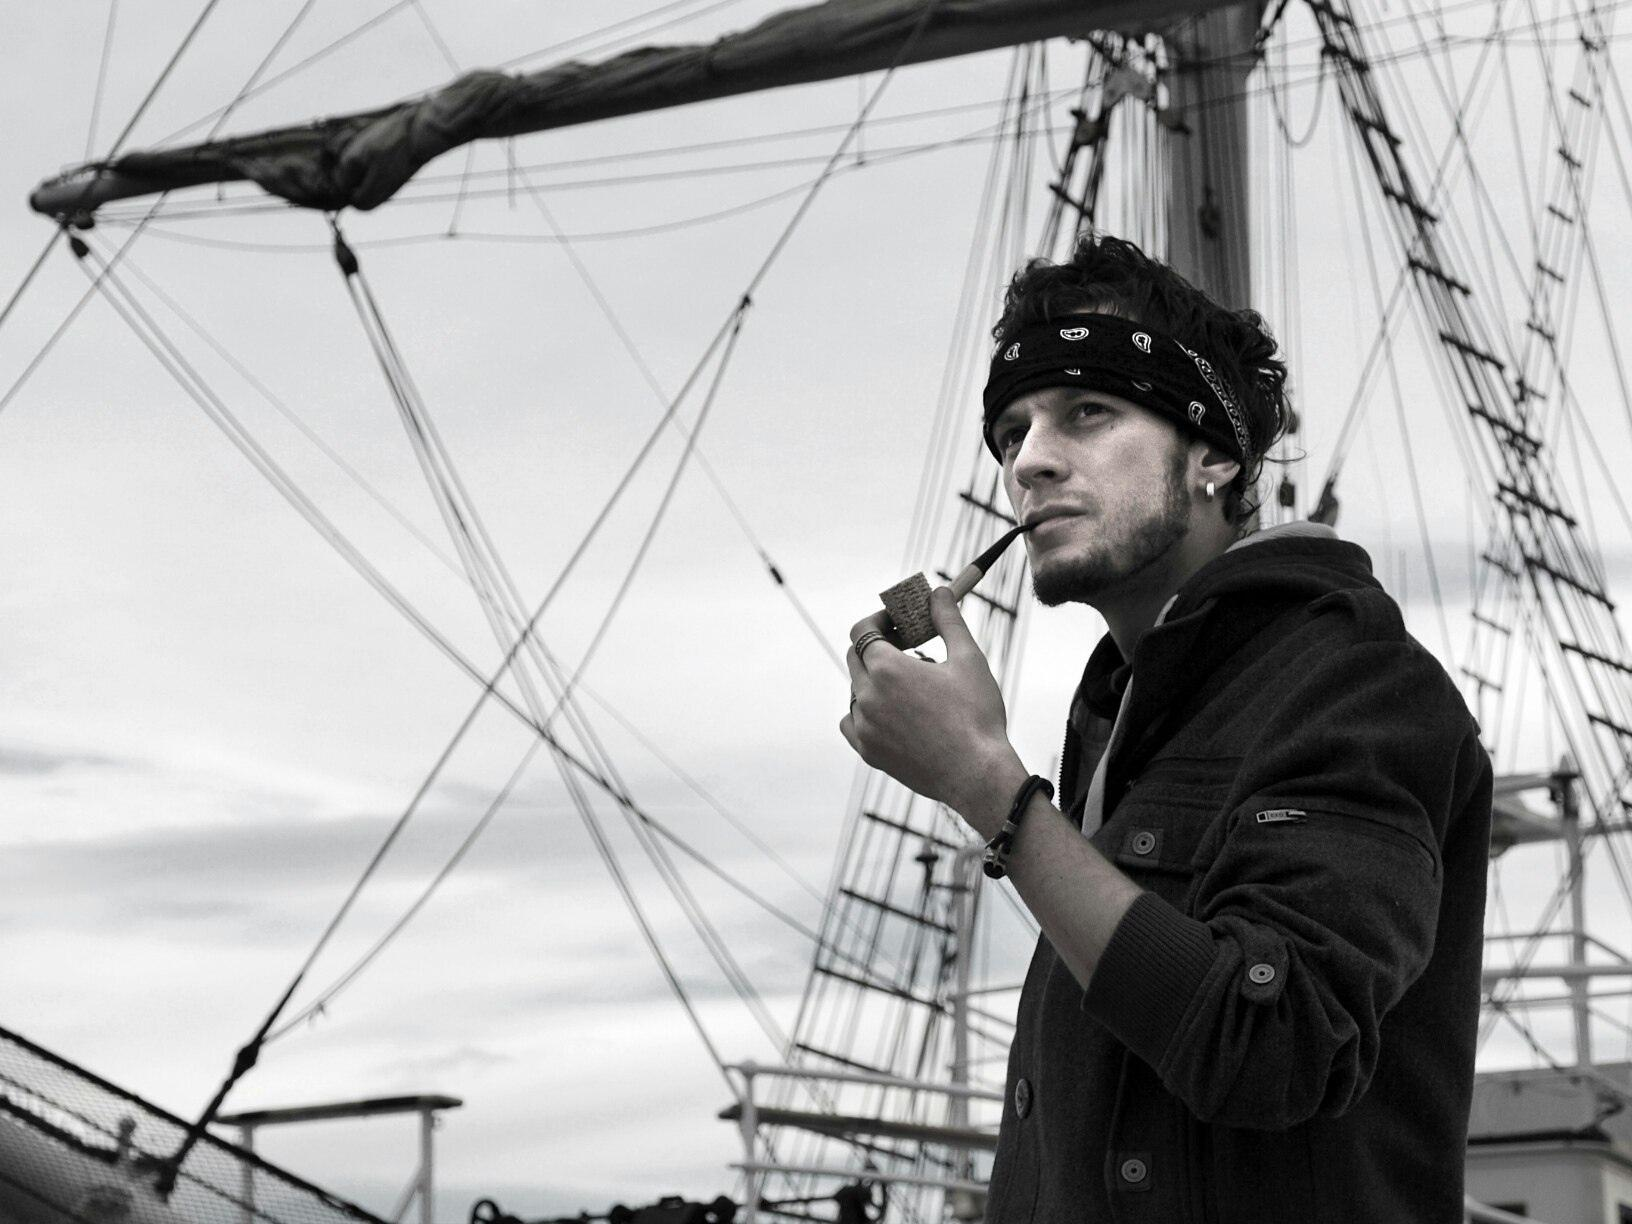trubka: (879, 523, 1037, 651)
